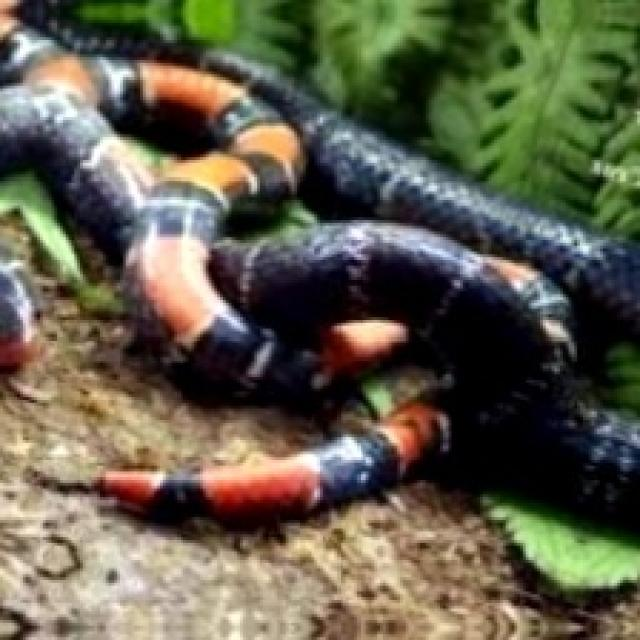barredcoral snake: (0, 0, 640, 522), (0, 265, 34, 366)
